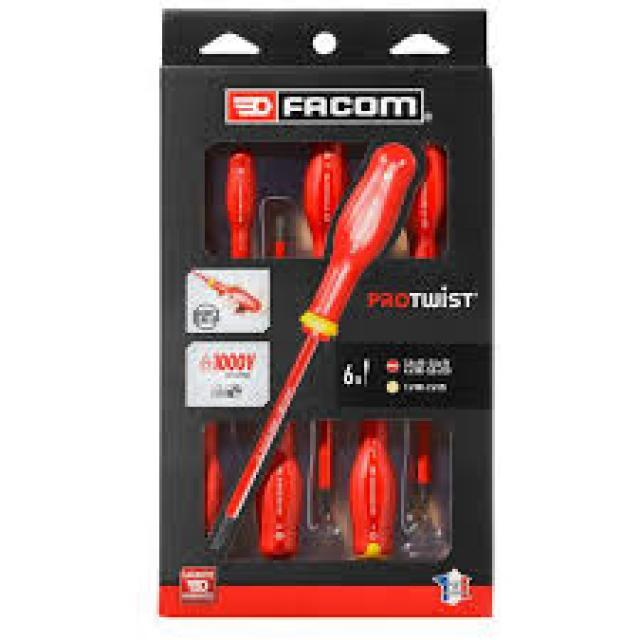screwdriver: (200, 138, 420, 559)
